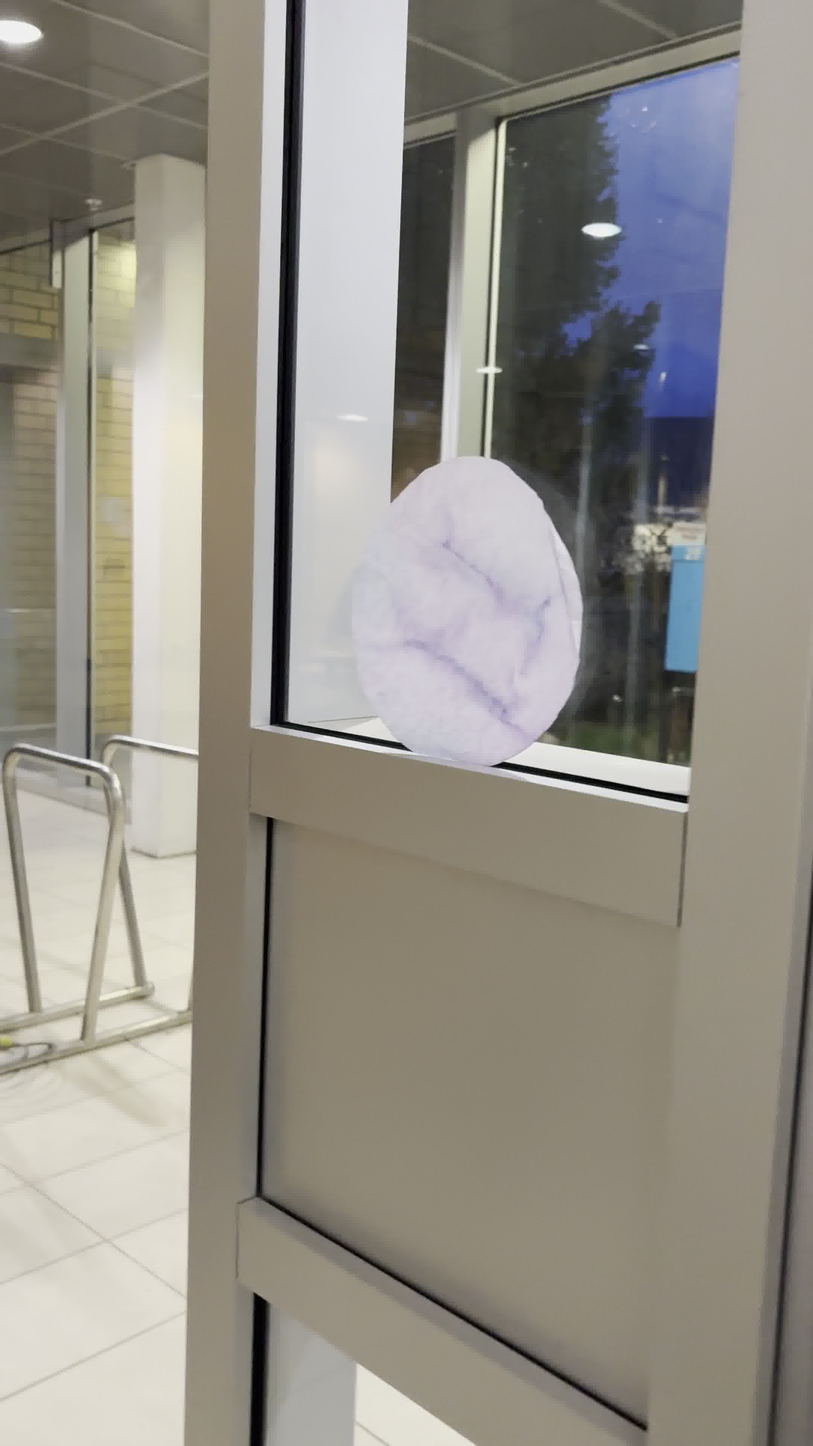Target: (348, 455, 587, 773)
